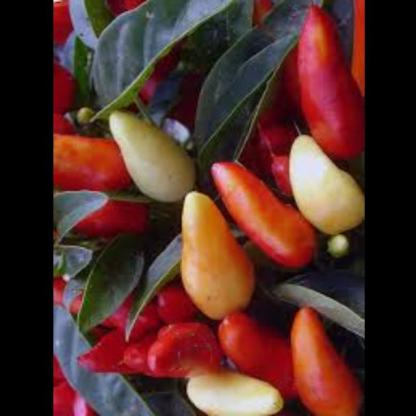hot pepper: (52, 0, 363, 416)
